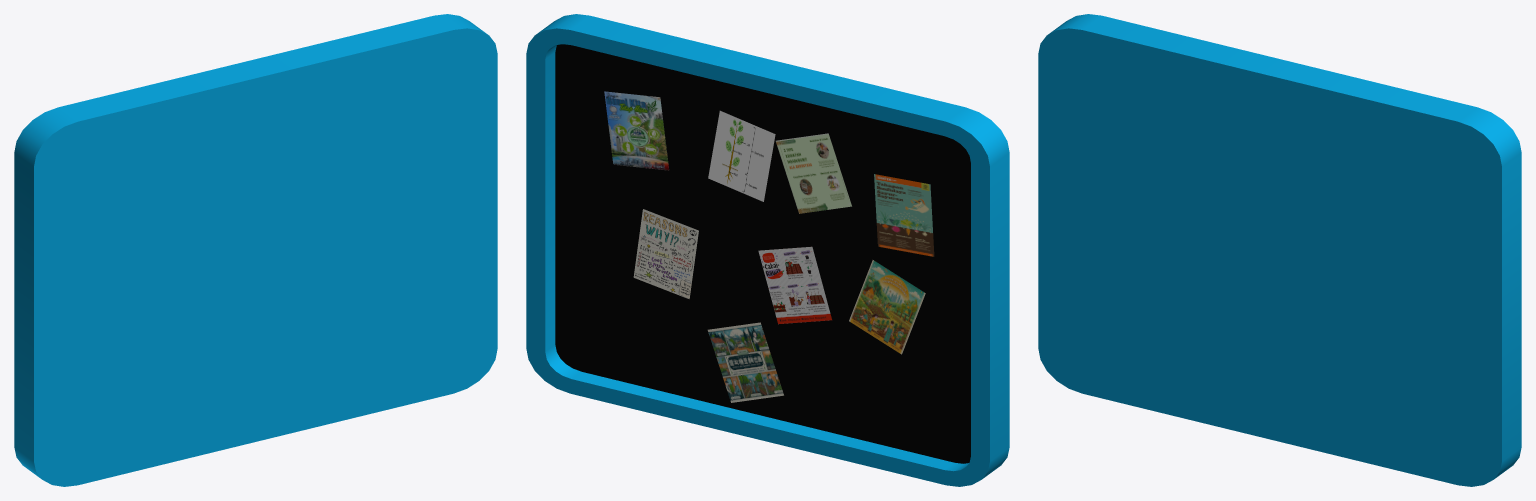
The model's file is board informasi .fbx.
3 renders of one model, left to right at view 1: azimuth 30°, elevation 25°; view 2: azimuth 150°, elevation 25°; view 3: azimuth 330°, elevation 25°, orthographic.
Visible parts, largest first — view 1: Plane.019; view 2: Plane.019, Plane.018, Plane.012, Plane.016, Plane.014, Plane.017, Plane.011, Plane.015, Plane.013; view 3: Plane.019.
Boxes of the visible parts, box(x1,y1,x2,y2) form: Plane.019: box(14, 14, 497, 486); Plane.019: box(526, 14, 1009, 486); Plane.018: box(604, 91, 669, 170); Plane.012: box(874, 174, 934, 256); Plane.016: box(775, 133, 851, 213); Plane.014: box(758, 246, 831, 324); Plane.017: box(708, 110, 775, 201); Plane.011: box(707, 322, 783, 402); Plane.015: box(633, 209, 698, 299); Plane.013: box(849, 260, 925, 354); Plane.019: box(1038, 14, 1521, 486).
Bounding box in the file's own units: 1180 × 884 × 86.51.
Materials: 10 (8 with a texture image).
